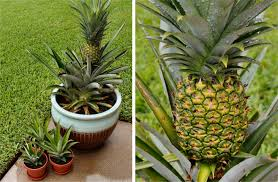pineapple: (172, 77, 249, 161), (80, 43, 100, 64)
